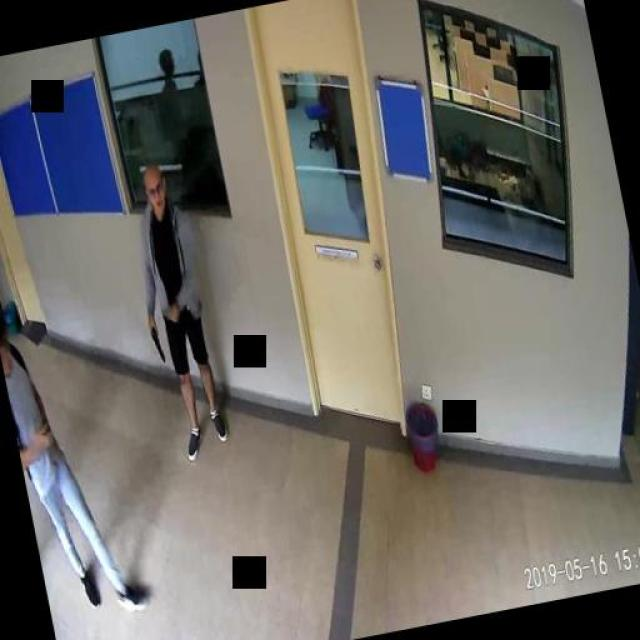gun: (146, 320, 165, 364)
